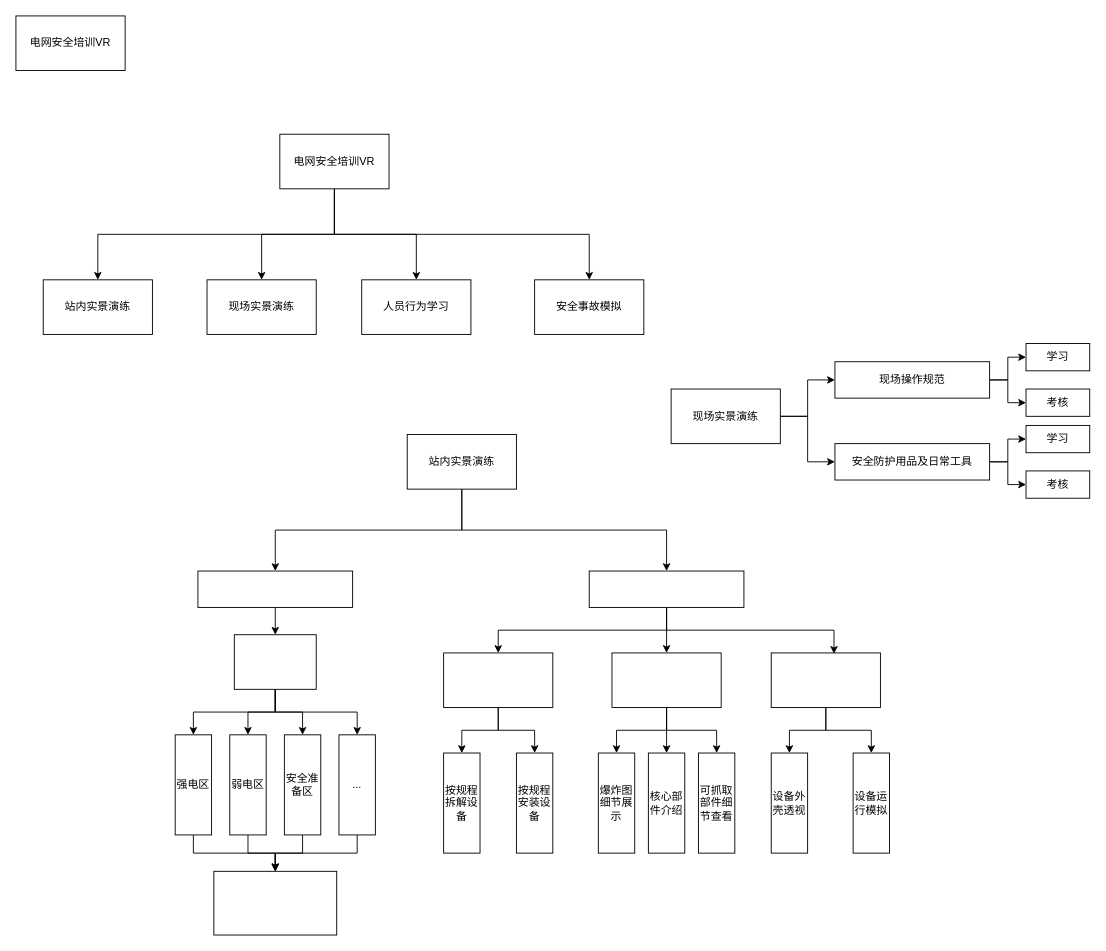
The diagram is 1106 pixels wide and 951 high, and some of its shapes have lost their labels. The shapes that lost their labels are listed below. From the top down, each one's centre as x and y in pixels, then its label:
At (275,588): "实景场地漫游".
At (666,588): "设备介绍及学习".
At (274,661): "按区域划分场地".
At (498,680): "设备拆装讲解".
At (666,680): "设备爆炸图".
At (825,680): "设备透视及运行模拟".
At (275,902): "每个区域： 学习模式为讲解。 考核模式为习题。".
